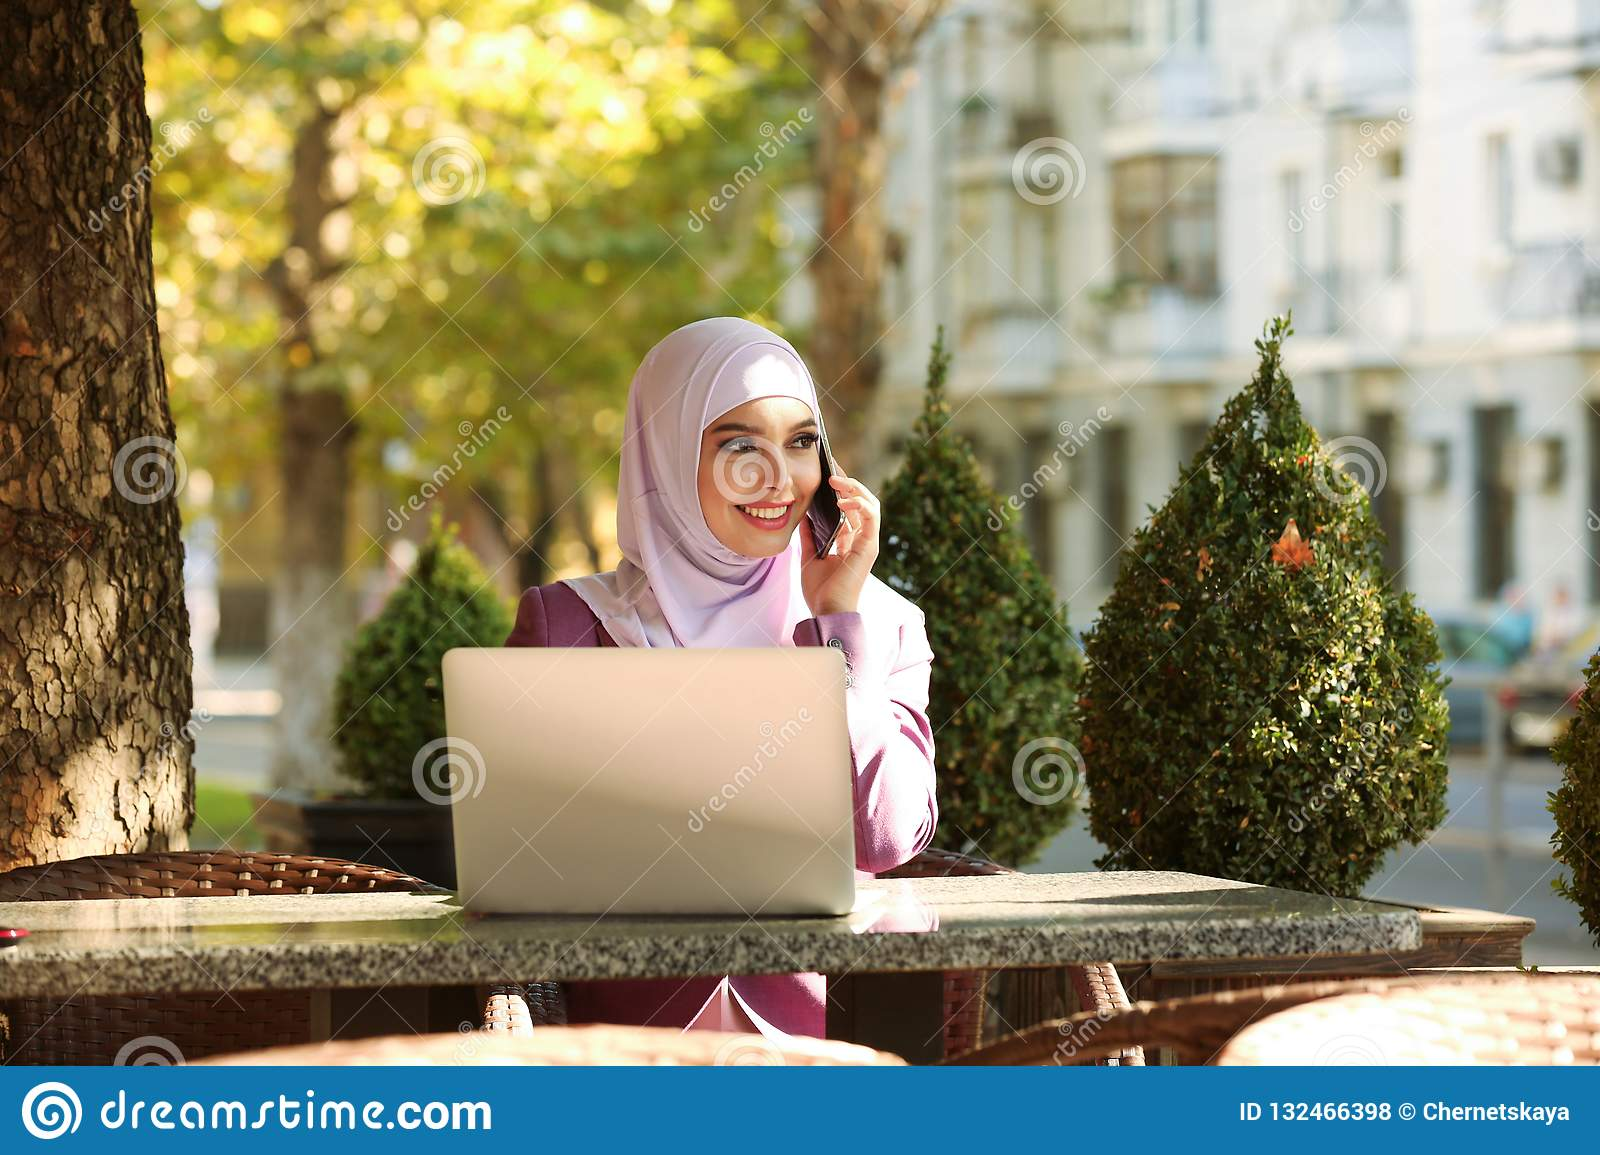phone: (802, 425, 848, 559)
talk: (702, 414, 881, 615)
